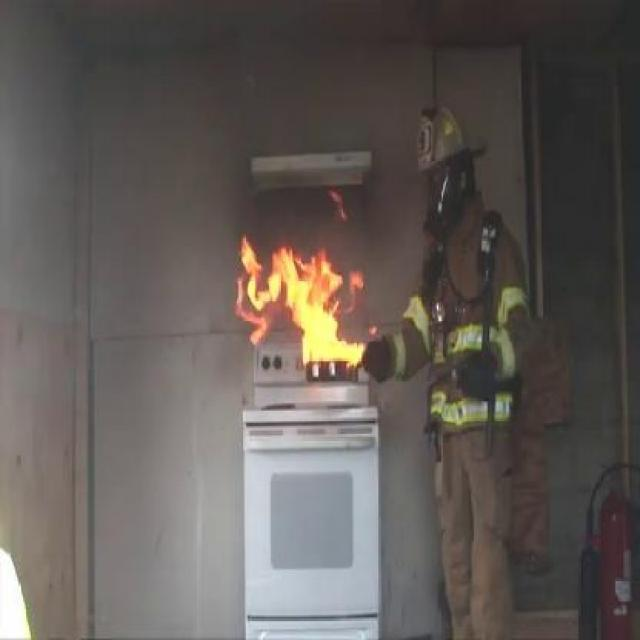fire: (228, 229, 362, 357)
